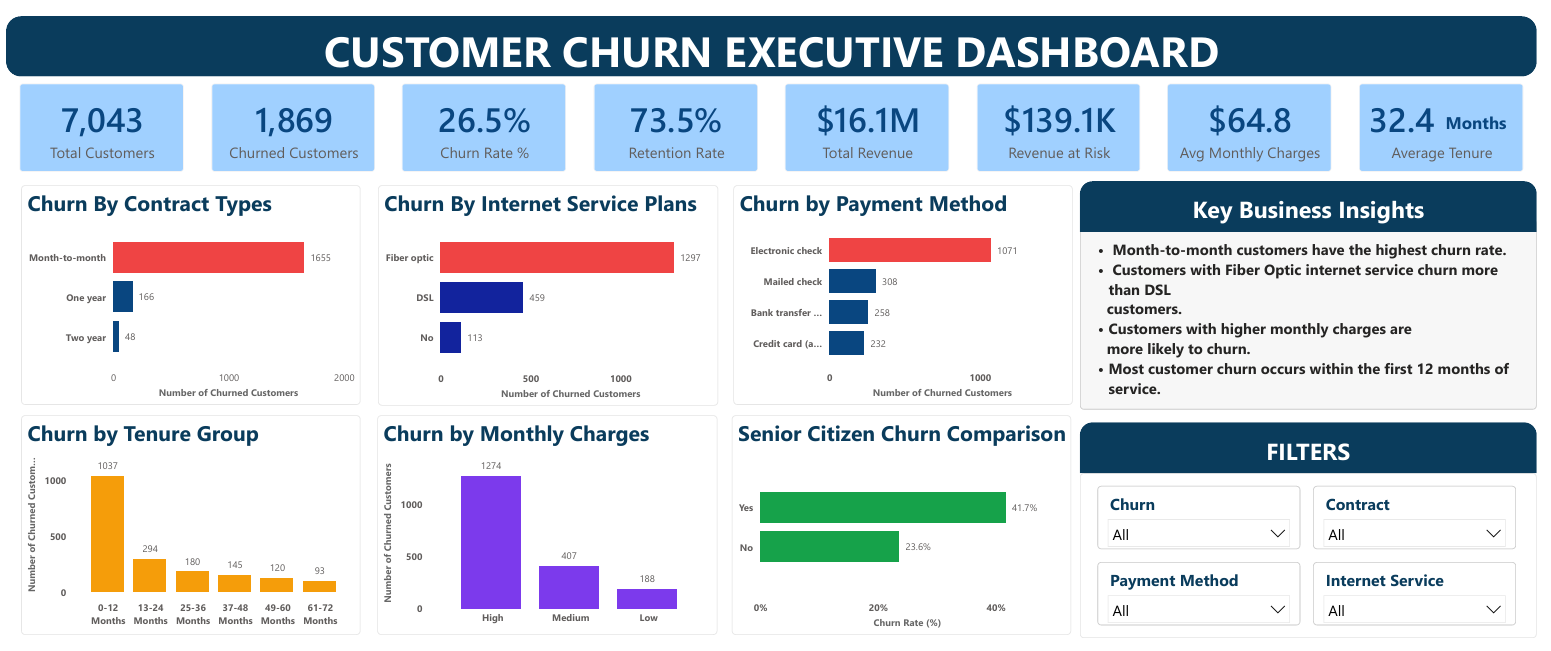

Layout of this report page (visuals, bound fields, positions):
{"tool":"powerbi","page":{"name":"Executive Dashboard","canvas":[1930,800],"ordinal":0},"visuals":[{"type":"cardVisual","fields":{"Data":["Customer_Churn.Retention Rate"]},"box":[723.6,67.5,241.2,145],"z":0},{"type":"cardVisual","fields":{"Data":["Customer_Churn.Average Tenure"]},"box":[1688.8,67.5,241.2,145],"z":1000},{"type":"cardVisual","fields":{"Data":["Customer_Churn.Average Monthly Charges"]},"box":[1447.1,67.5,241.2,145],"z":2000},{"type":"cardVisual","fields":{"Data":["Customer_Churn.Revenue at Risk"]},"box":[1206.8,67.5,240,145],"z":3000},{"type":"cardVisual","fields":{"Data":["Customer_Churn.Total Revenue"]},"box":[965.2,67.5,241.2,145],"z":4000},{"type":"cardVisual","fields":{"Data":["Customer_Churn.Churn Rate %"]},"box":[482,67.5,241.2,145],"z":5000},{"type":"cardVisual","fields":{"Data":["Customer_Churn.Churned Customers"]},"box":[241.6,67.5,240,145],"z":6000},{"type":"cardVisual","fields":{"Data":["Customer_Churn.Total Customers"]},"box":[0,67.5,241.2,145],"z":7000},{"type":"shape","box":[0,0,1930,76.2],"z":8000},{"type":"clusteredBarChart","title":"Churn By Contract Types","fields":{"Y":["Customer_Churn.Churned Customers"],"Category":["Customer_Churn.Contract"]},"box":[19.3,213.4,428,277],"z":9000},{"type":"clusteredBarChart","title":"Churn By Internet Service Plans","fields":{"Y":["Customer_Churn.Churned Customers"],"Category":["Customer_Churn.Internet Service"]},"box":[469.3,213.4,428.7,278],"z":10000},{"type":"clusteredBarChart","title":"Churn by Payment Method","fields":{"Y":["Customer_Churn.Churned Customers"],"Category":["Customer_Churn.Payment Method"]},"box":[917,213.4,428,277],"z":11000},{"type":"clusteredColumnChart","title":"Churn by Tenure Group","fields":{"Category":["Customer_Churn.Tenure Group"],"Y":["Customer_Churn.Churned Customers"]},"box":[18.8,502.5,428,277],"z":12000},{"type":"clusteredColumnChart","title":"Churn by Monthly Charges","fields":{"Y":["Customer_Churn.Churned Customers"],"Category":["Customer_Churn.Monthly Charge Group"]},"box":[468.3,502.5,428.8,277],"z":13000},{"type":"clusteredBarChart","title":"Senior Citizen Churn Comparison","fields":{"Category":["Customer_Churn.Senior Citizen Status"],"Y":["Customer_Churn.Churn Rate %"]},"box":[915.4,502.5,428,277],"z":14000},{"type":"shape","box":[1365,557.5,565,48.8],"z":15000},{"type":"slicer","fields":{"Values":["Customer_Churn.Churn"]},"box":[1650,606.2,257.5,63.8],"z":16000},{"type":"slicer","fields":{"Values":["Customer_Churn.Contract"]},"box":[1373.8,606.2,257.5,63.8],"z":17000},{"type":"slicer","fields":{"Values":["Customer_Churn.Payment Method"]},"box":[1650,681.2,257.5,63.8],"z":18000},{"type":"textbox","box":[1365,260,565,271.2],"z":19000},{"type":"textbox","box":[1810,113.8,100,51.2],"z":20000},{"type":"shape","box":[1365,213.8,565,46.2],"z":21000},{"type":"slicer","fields":{"Values":["Customer_Churn.Internet Service"]},"box":[1373.8,681.2,257.5,63.8],"z":22000}]}

Visuals, with their boxes in screenshot pixels (x1, y1, x2, y2), scaled from the page's 1930x800 canvas onto the 1551x651 screenshot:
cardVisual - Customer_Churn.Retention Rate: {"left": 582, "top": 55, "right": 775, "bottom": 173}
cardVisual - Customer_Churn.Average Tenure: {"left": 1357, "top": 55, "right": 1550, "bottom": 173}
cardVisual - Customer_Churn.Average Monthly Charges: {"left": 1163, "top": 55, "right": 1357, "bottom": 173}
cardVisual - Customer_Churn.Revenue at Risk: {"left": 970, "top": 55, "right": 1163, "bottom": 173}
cardVisual - Customer_Churn.Total Revenue: {"left": 776, "top": 55, "right": 969, "bottom": 173}
cardVisual - Customer_Churn.Churn Rate %: {"left": 387, "top": 55, "right": 581, "bottom": 173}
cardVisual - Customer_Churn.Churned Customers: {"left": 194, "top": 55, "right": 387, "bottom": 173}
cardVisual - Customer_Churn.Total Customers: {"left": 0, "top": 55, "right": 194, "bottom": 173}
shape: {"left": 0, "top": 0, "right": 1550, "bottom": 62}
"Churn By Contract Types" clusteredBarChart: {"left": 16, "top": 174, "right": 359, "bottom": 399}
"Churn By Internet Service Plans" clusteredBarChart: {"left": 377, "top": 174, "right": 722, "bottom": 400}
"Churn by Payment Method" clusteredBarChart: {"left": 737, "top": 174, "right": 1081, "bottom": 399}
"Churn by Tenure Group" clusteredColumnChart: {"left": 15, "top": 409, "right": 359, "bottom": 634}
"Churn by Monthly Charges" clusteredColumnChart: {"left": 376, "top": 409, "right": 721, "bottom": 634}
"Senior Citizen Churn Comparison" clusteredBarChart: {"left": 736, "top": 409, "right": 1080, "bottom": 634}
shape: {"left": 1097, "top": 454, "right": 1550, "bottom": 493}
slicer - Customer_Churn.Churn: {"left": 1326, "top": 493, "right": 1533, "bottom": 545}
slicer - Customer_Churn.Contract: {"left": 1104, "top": 493, "right": 1311, "bottom": 545}
slicer - Customer_Churn.Payment Method: {"left": 1326, "top": 554, "right": 1533, "bottom": 606}
textbox: {"left": 1097, "top": 212, "right": 1550, "bottom": 432}
textbox: {"left": 1455, "top": 93, "right": 1535, "bottom": 134}
shape: {"left": 1097, "top": 174, "right": 1550, "bottom": 212}
slicer - Customer_Churn.Internet Service: {"left": 1104, "top": 554, "right": 1311, "bottom": 606}
